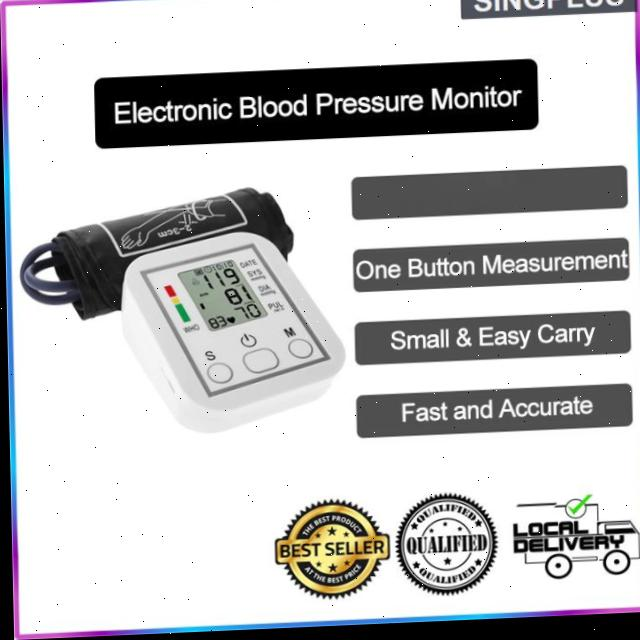dia: (217, 280, 255, 312)
pul: (230, 300, 266, 327)
ssd: (176, 245, 267, 345)
sys: (195, 262, 240, 295)
